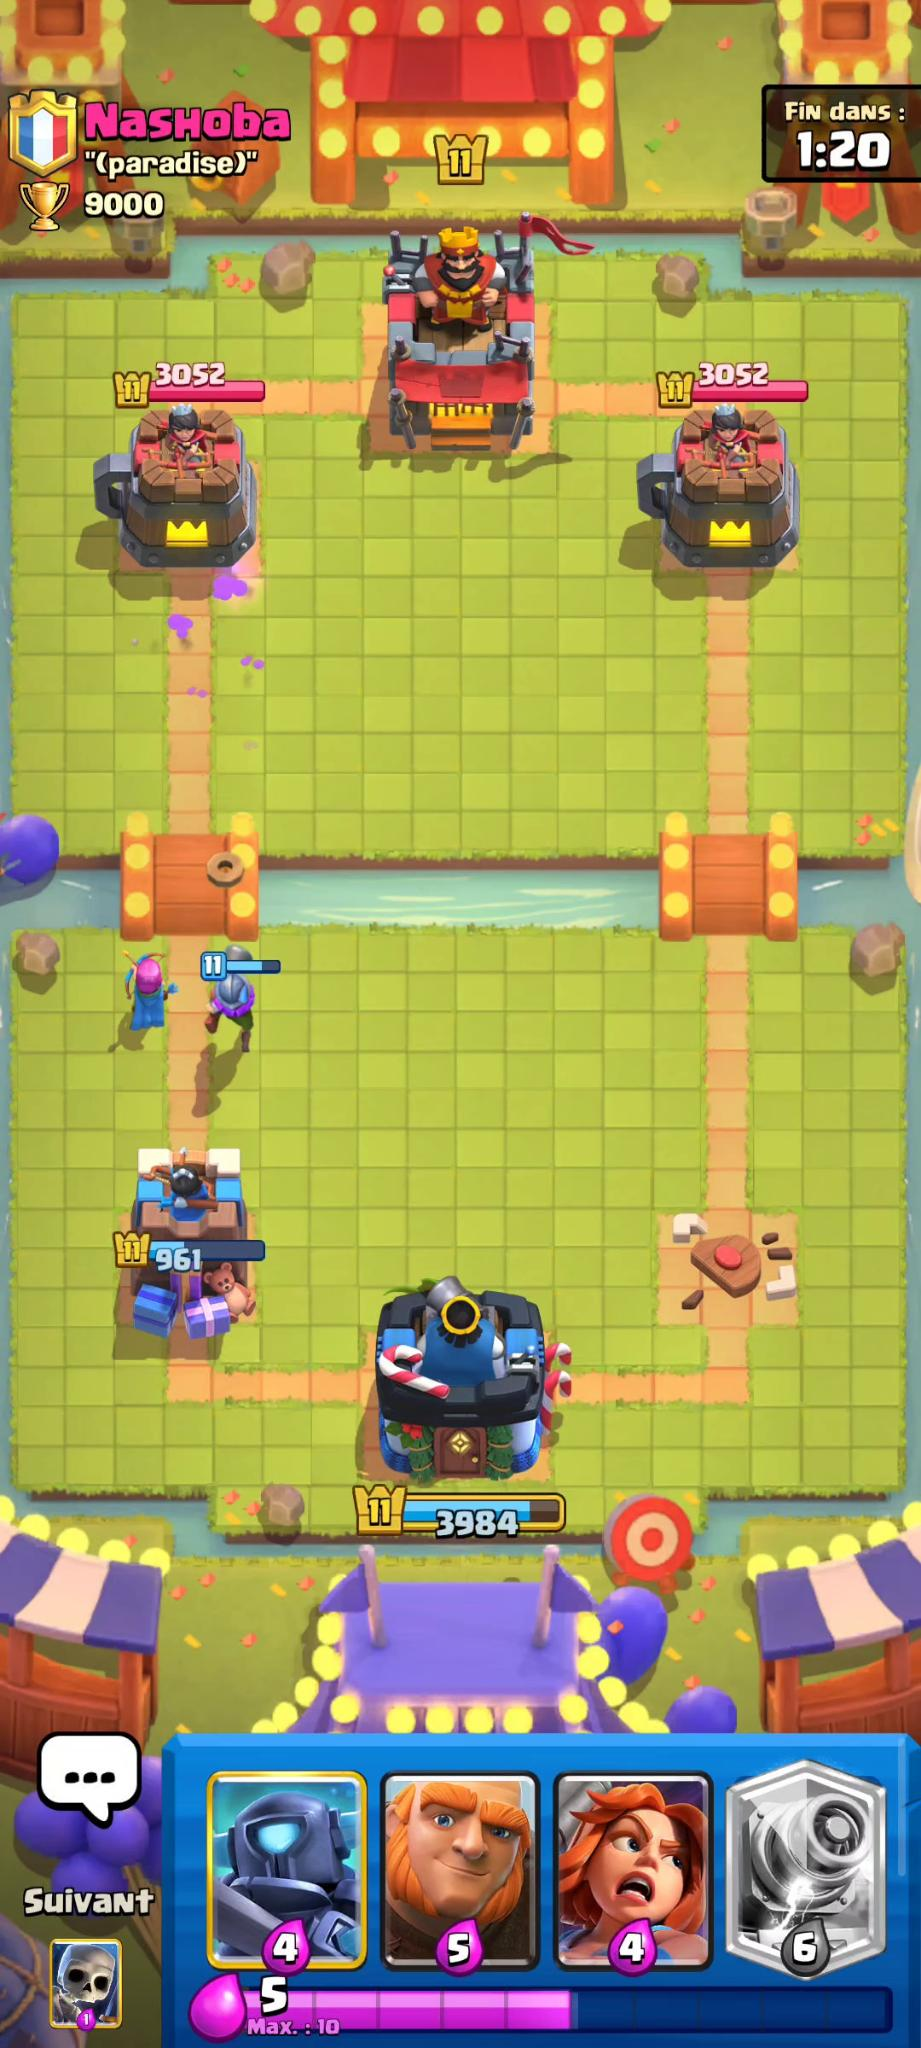archere: (112, 948, 171, 1053)
mousquetaire: (192, 955, 273, 1044)
